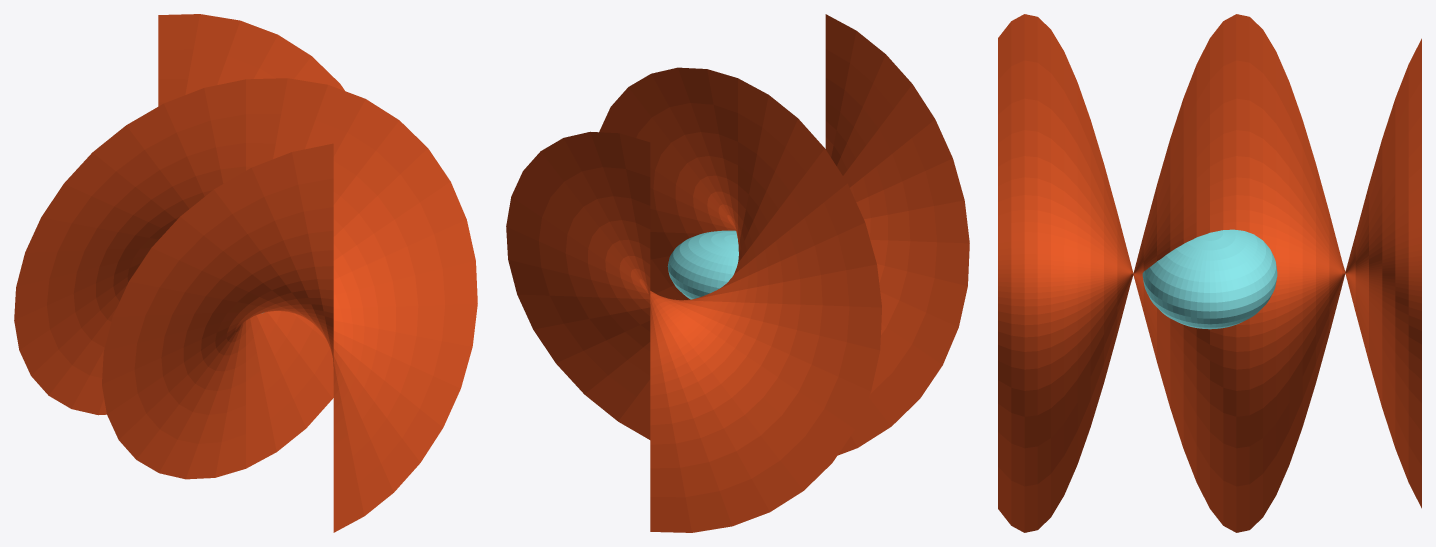
Rendered from elipse.glb.
The picture shows the model from 3 angles, left to right: view 1: azimuth 30°, elevation 25°; view 2: azimuth 150°, elevation 25°; view 3: azimuth 270°, elevation 25°; orthographic projection. The views are drawn at different scales.
Parts seen in each view (by area): view 1: XYZ Function; view 2: XYZ Function, XYZ Function.001; view 3: XYZ Function, XYZ Function.001.
Part boxes in pixels (left/top/right/bottom): XYZ Function: left=14, top=14, right=477, bottom=532; XYZ Function: left=506, top=14, right=969, bottom=532; XYZ Function.001: left=667, top=230, right=738, bottom=299; XYZ Function: left=998, top=14, right=1421, bottom=532; XYZ Function.001: left=1142, top=229, right=1277, bottom=329.
Size of the model in its own units: 23.1 by 23.1 by 18.85.
